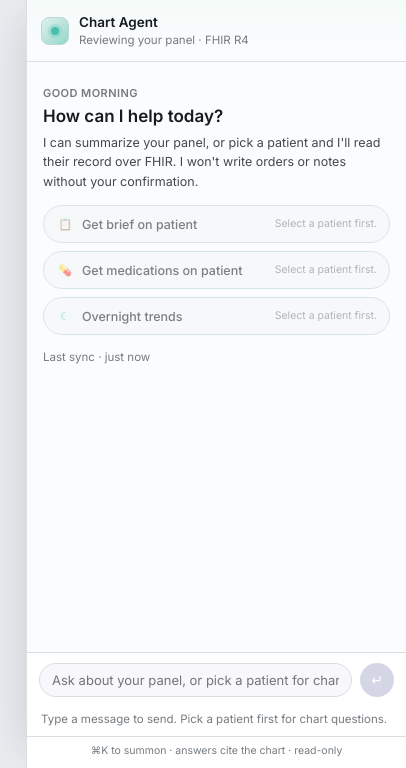
Scenario: AgentPanel composer placeholder + Send button (issue 043) › hides the Send hint once the draft has content
The width and height of the screenshot is (406, 768).
Expected: the text with test id "agent-send-hint" is shown, [27, 707, 405, 737]
Type "who needs attention" into the 2nd field with test id "agent-input" at (196, 680), box [39, 663, 352, 697]
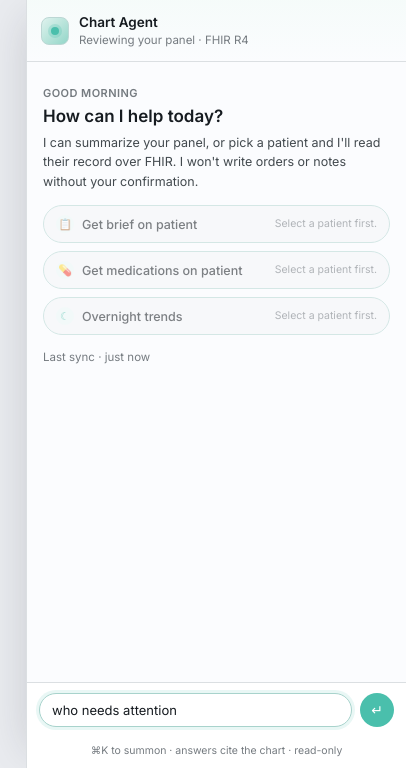
Expected: the text with test id "agent-send-hint" is gone
